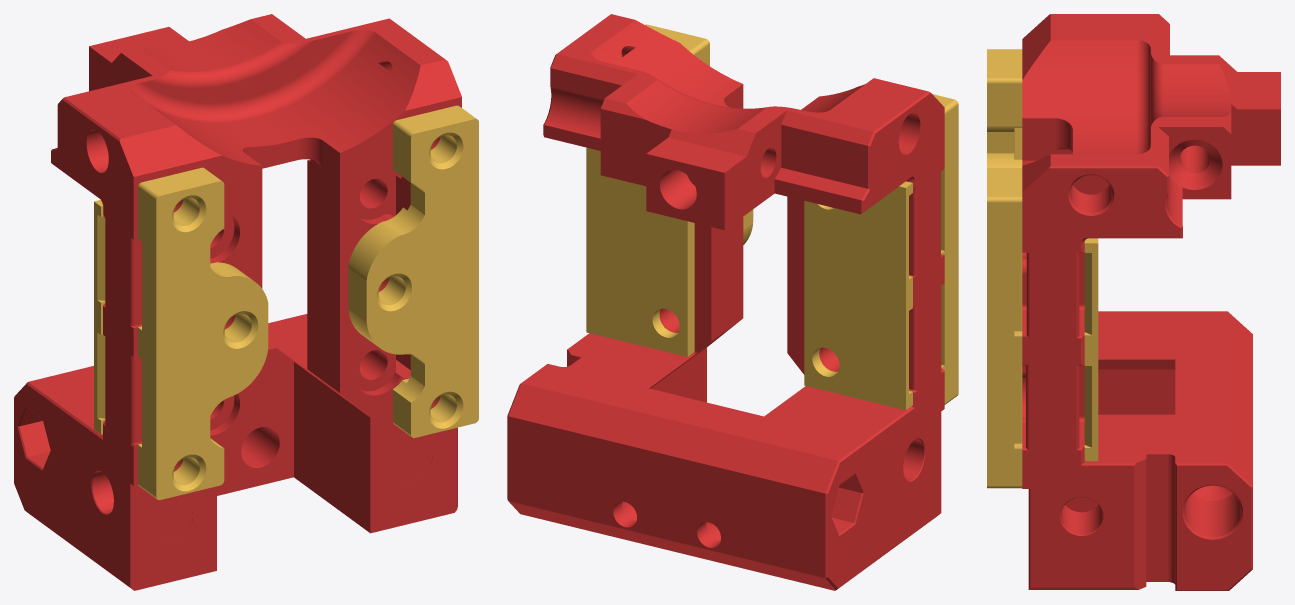
Rendered from Monolith carriage.glb.
3 renders of one model, left to right at view 1: azimuth 30°, elevation 25°; view 2: azimuth 150°, elevation 25°; view 3: azimuth 270°, elevation 25°, orthographic. The views are drawn at different scales.
Size of the model in its own units: 0.0401 by 0.0518 by 0.0325.
